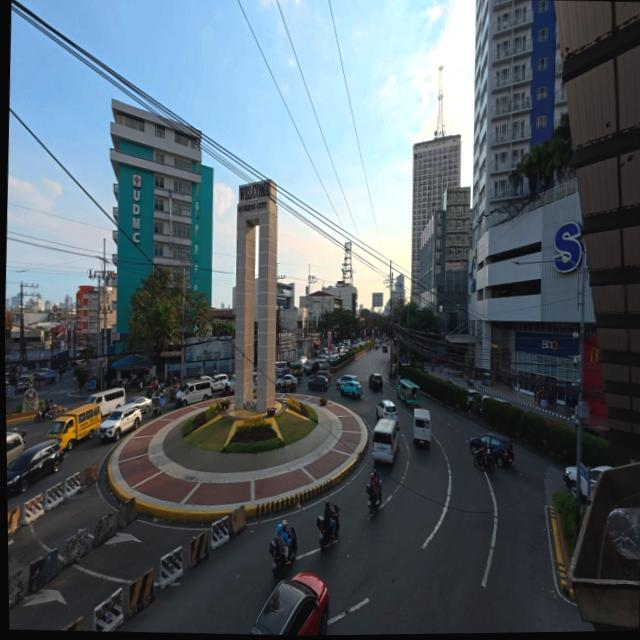car: (96, 403, 142, 443), (207, 372, 236, 395), (336, 376, 364, 399), (307, 373, 330, 392), (378, 397, 399, 415), (367, 373, 383, 393)
motorcycle: (469, 433, 515, 472)
vans: (250, 572, 328, 636), (173, 379, 213, 406)
